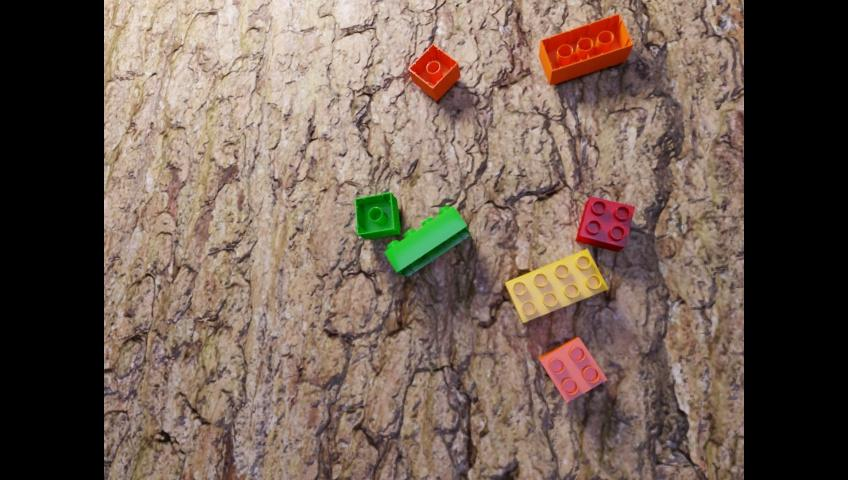2x2_green: (355, 191, 399, 239)
2x2_orange: (539, 336, 606, 402), (408, 43, 460, 100)
2x2_red: (575, 195, 634, 251)
4x2_green: (384, 205, 470, 277)
4x2_orange: (538, 13, 632, 85)
4x2_yellow: (505, 248, 607, 322)
